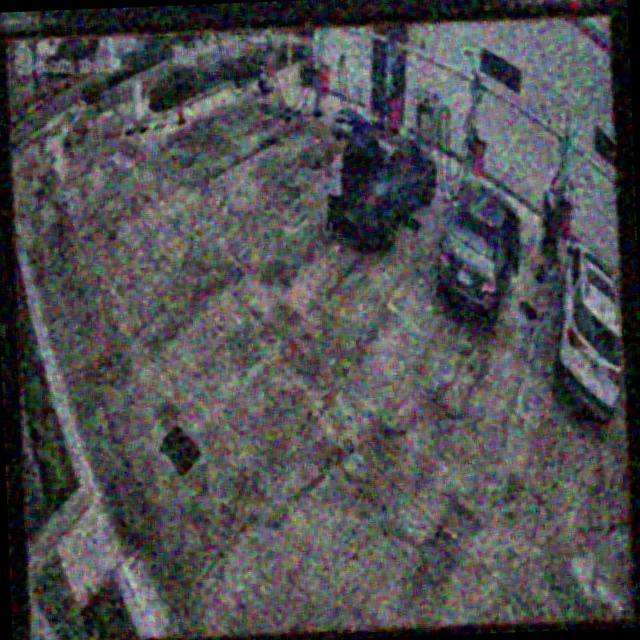Car: (331, 105, 439, 246), (433, 177, 525, 323)
